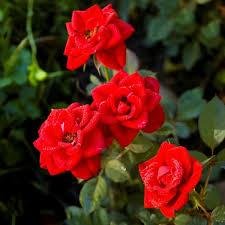Rose: (32, 99, 108, 190), (93, 68, 169, 140), (139, 139, 206, 220), (58, 2, 134, 72)
